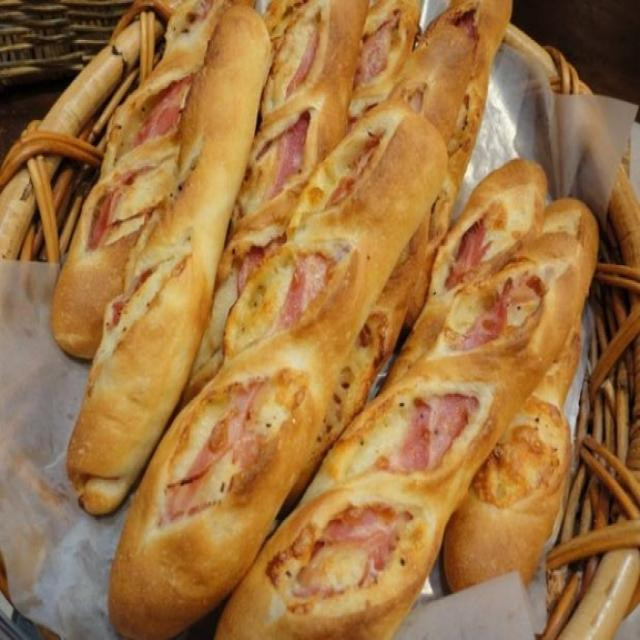Bread: (65, 13, 569, 640)
